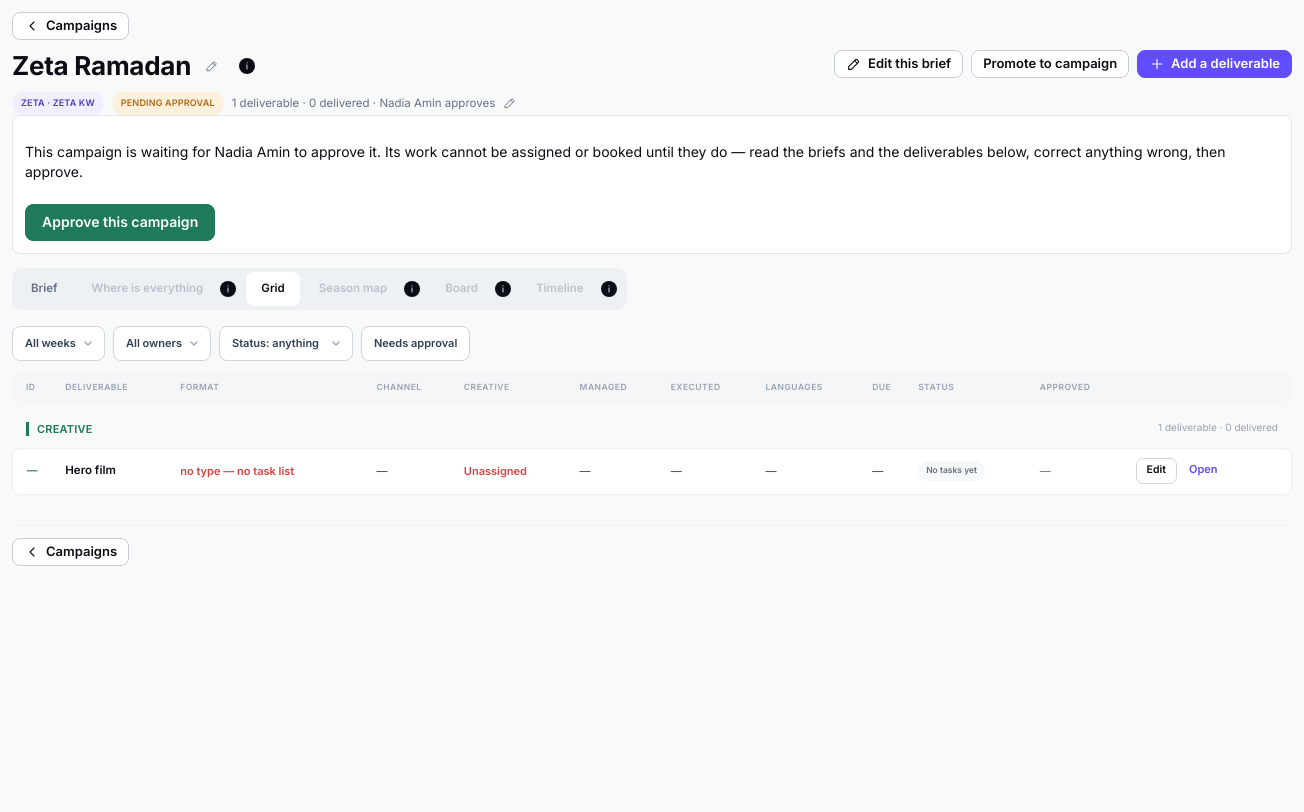
Test: CampaignPage — a legacy department brief is kept, read only (ADR-0100 d.6) › keeps the edit on a single job, whose only brief this is
The width and height of the screenshot is (1304, 812).
Click the tab with test id "campaign-tab-brief": (44, 289) [16,272,72,306]
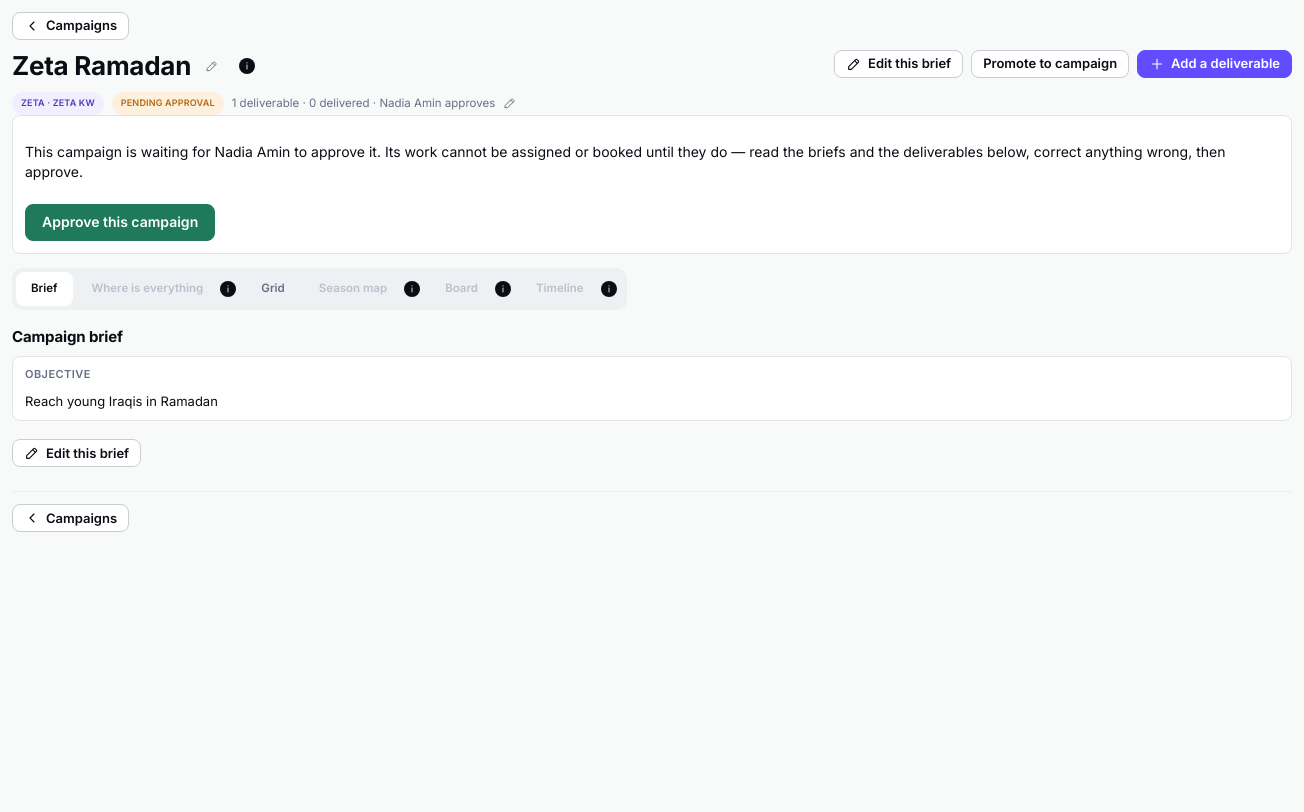
Now the button with test id "campaign-department-brief-dept-creative-edit" is shown, box [12,440,141,468]
